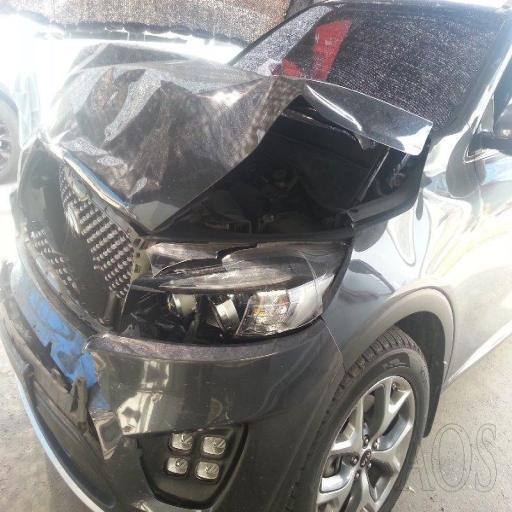dent: (101, 43, 400, 177)
scratch: (40, 222, 240, 482)
